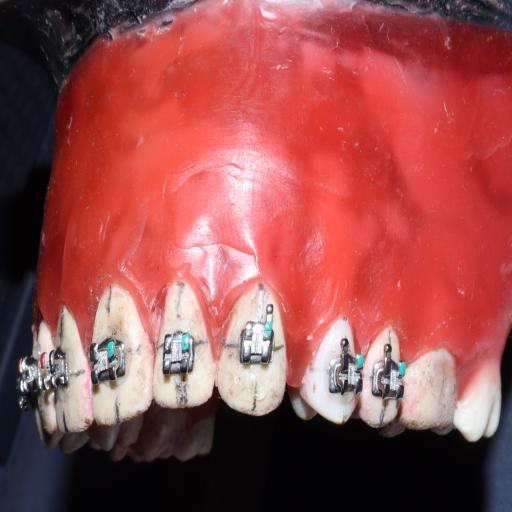incorrect_brace: (152, 282, 217, 414), (238, 312, 275, 368), (160, 326, 198, 376)
